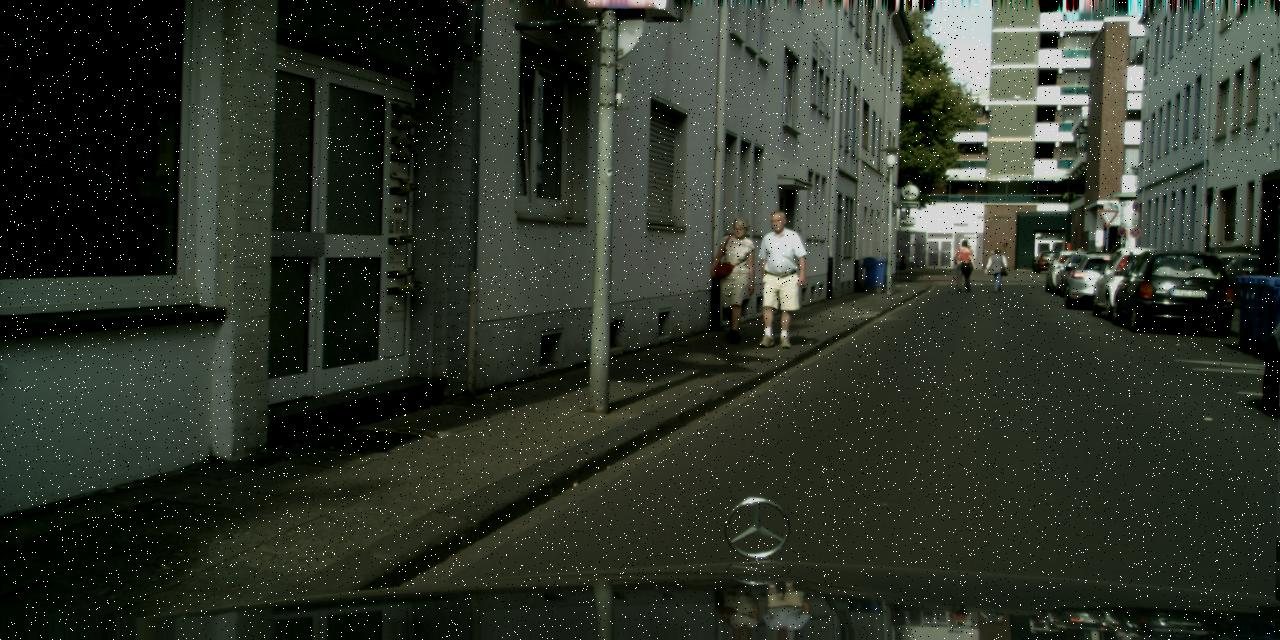ped: (751, 210, 805, 344), (712, 216, 762, 341), (954, 238, 974, 291), (989, 248, 1006, 291)
